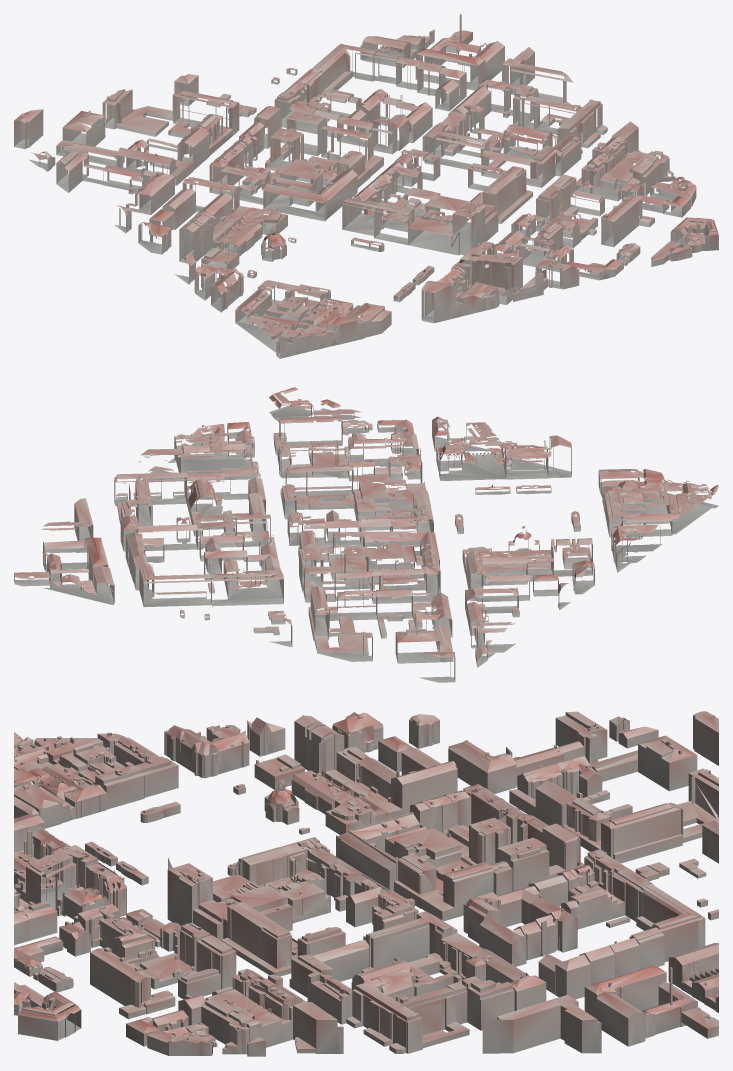
The model's file is bldg_lod2.2.glb.
3 renders of one model, top to bottom at view 1: azimuth 30°, elevation 25°; view 2: azimuth 150°, elevation 25°; view 3: azimuth 270°, elevation 25°, orthographic. The views are drawn at different scales.
Parts seen in each view (by area): view 1: geometry_0; view 2: geometry_0; view 3: geometry_0.
Boxes of the visible parts, x1,y1,x2,y2 form: geometry_0: [14, 14, 718, 358]; geometry_0: [14, 387, 718, 682]; geometry_0: [14, 711, 718, 1056].
Size of the model in its own units: 500 by 52.95 by 500.
